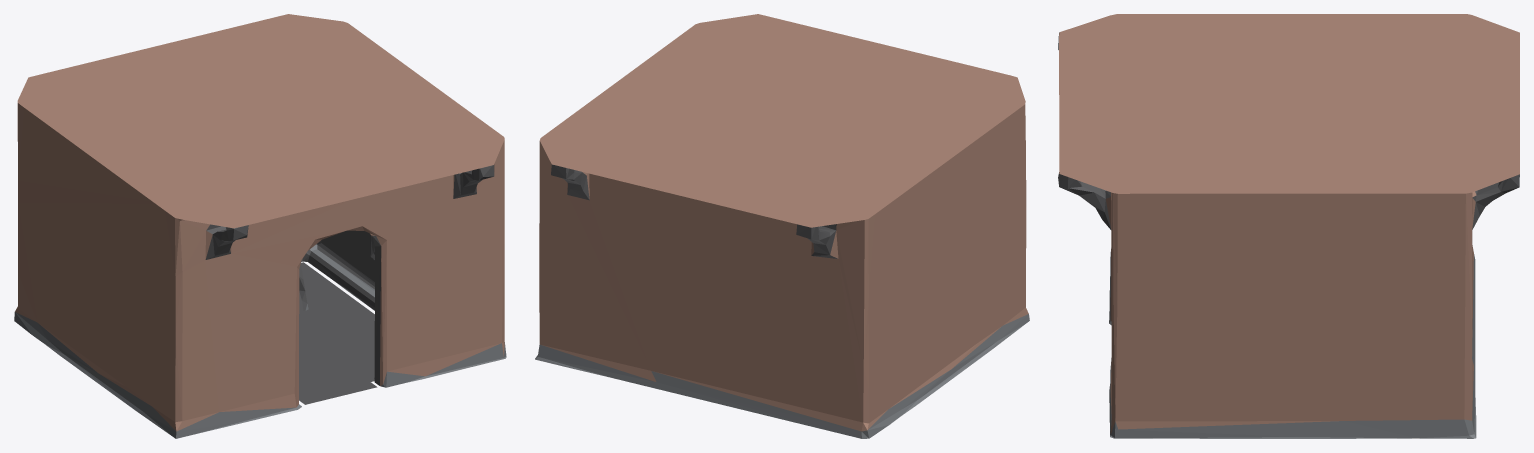
File: etape-1.glb
3 renders of one model, left to right at view 1: azimuth 30°, elevation 25°; view 2: azimuth 150°, elevation 25°; view 3: azimuth 270°, elevation 25°, orthographic. The views are drawn at different scales.
Visible parts, largest first — view 1: geometry_0; view 2: geometry_0; view 3: geometry_0.
Boxes of the visible parts, x1,y1,x2,y2 form: geometry_0: (14,14,506,438); geometry_0: (535,14,1029,438); geometry_0: (1058,14,1519,438).
Size of the model in its own units: 0.7877 by 0.4915 by 0.8423.
